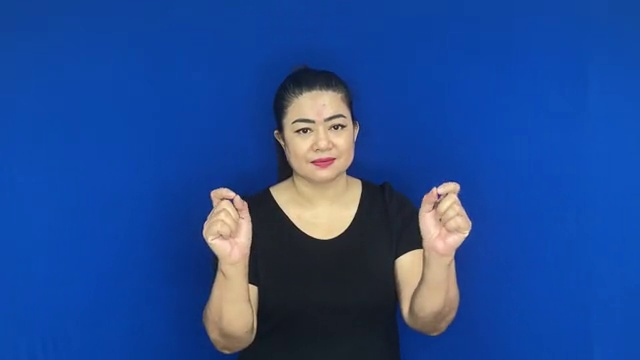crab: (195, 174, 478, 271)
